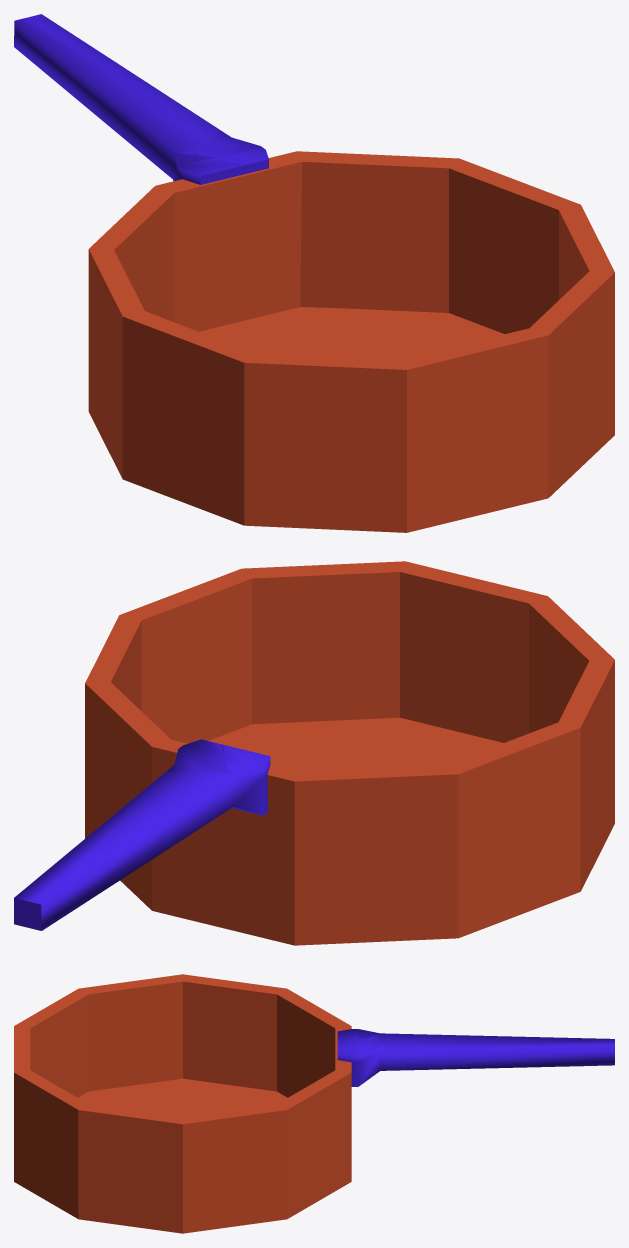
The model's file is P_Casseroles1_Colored_Breakable.fbx.
3 views of the same model, one above another, from view 1: azimuth 30°, elevation 25°; view 2: azimuth 150°, elevation 25°; view 3: azimuth 270°, elevation 25° (orthographic). The views are drawn at different scales.
Parts seen in each view (by area): view 1: P_Casserole1_Colored_Breakable, P_Casserole1_Colored_Breakable_cell, P_Casserole1_Colored_Breakable_cell.004, P_Casserole1_Colored_Breakable_cell.001, P_Casserole1_Colored_Breakable_cell.005, P_Casserole1_Colored_Breakable_cell.006, P_Casserole1_Colored_Breakable_cell.009, P_Casserole1_Colored_Breakable_cell.008, P_Casserole1_Colored_Breakable_cell.007, P_Casserole1_Colored_Breakable_cell.002, P_Casserole1_Colored_Breakable_cell.003; view 2: P_Casserole1_Colored_Breakable, P_Casserole1_Colored_Breakable_cell.002, P_Casserole1_Colored_Breakable_cell.008, P_Casserole1_Colored_Breakable_cell.009, P_Casserole1_Colored_Breakable_cell.005, P_Casserole1_Colored_Breakable_cell, P_Casserole1_Colored_Breakable_cell.001, P_Casserole1_Colored_Breakable_cell.007, P_Casserole1_Colored_Breakable_cell.010, P_Casserole1_Colored_Breakable_cell.006; view 3: P_Casserole1_Colored_Breakable, P_Casserole1_Colored_Breakable_cell.002, P_Casserole1_Colored_Breakable_cell.009, P_Casserole1_Colored_Breakable_cell, P_Casserole1_Colored_Breakable_cell.010, P_Casserole1_Colored_Breakable_cell.008, P_Casserole1_Colored_Breakable_cell.005, P_Casserole1_Colored_Breakable_cell.006, P_Casserole1_Colored_Breakable_cell.004, P_Casserole1_Colored_Breakable_cell.007, P_Casserole1_Colored_Breakable_cell.001.
Part boxes in pixels (box(x1,y1,x2,y2)): P_Casserole1_Colored_Breakable: box(14, 21, 614, 531); P_Casserole1_Colored_Breakable_cell: box(116, 315, 596, 532); P_Casserole1_Colored_Breakable_cell.004: box(348, 157, 543, 353); P_Casserole1_Colored_Breakable_cell.001: box(267, 151, 432, 314); P_Casserole1_Colored_Breakable_cell.005: box(89, 158, 250, 272); P_Casserole1_Colored_Breakable_cell.006: box(138, 243, 422, 359); P_Casserole1_Colored_Breakable_cell.009: box(466, 175, 614, 437); P_Casserole1_Colored_Breakable_cell.008: box(14, 14, 218, 178); P_Casserole1_Colored_Breakable_cell.007: box(196, 131, 301, 248); P_Casserole1_Colored_Breakable_cell.002: box(92, 260, 156, 465); P_Casserole1_Colored_Breakable_cell.003: box(161, 296, 247, 340); P_Casserole1_Colored_Breakable: box(14, 561, 614, 945); P_Casserole1_Colored_Breakable_cell.002: box(458, 750, 563, 925); P_Casserole1_Colored_Breakable_cell.008: box(14, 769, 242, 930); P_Casserole1_Colored_Breakable_cell.009: box(115, 573, 387, 749); P_Casserole1_Colored_Breakable_cell.005: box(222, 744, 494, 815); P_Casserole1_Colored_Breakable_cell: box(304, 575, 584, 900); P_Casserole1_Colored_Breakable_cell.001: box(97, 688, 169, 913); P_Casserole1_Colored_Breakable_cell.007: box(159, 739, 227, 771); P_Casserole1_Colored_Breakable_cell.010: box(487, 722, 574, 753); P_Casserole1_Colored_Breakable_cell.006: box(180, 857, 282, 898); P_Casserole1_Colored_Breakable: box(14, 974, 614, 1233); P_Casserole1_Colored_Breakable_cell.002: box(202, 981, 318, 1104); P_Casserole1_Colored_Breakable_cell.009: box(19, 1077, 249, 1230); P_Casserole1_Colored_Breakable_cell: box(14, 983, 201, 1208); P_Casserole1_Colored_Breakable_cell.010: box(183, 975, 260, 1071); P_Casserole1_Colored_Breakable_cell.008: box(370, 1033, 614, 1051); P_Casserole1_Colored_Breakable_cell.005: box(245, 986, 358, 1069); P_Casserole1_Colored_Breakable_cell.006: box(183, 1083, 265, 1116); P_Casserole1_Colored_Breakable_cell.004: box(164, 1101, 336, 1232); P_Casserole1_Colored_Breakable_cell.007: box(335, 1038, 392, 1086); P_Casserole1_Colored_Breakable_cell.001: box(284, 1070, 351, 1183).
Bounding box in the file's own units: 96.63 × 43.02 × 164.
